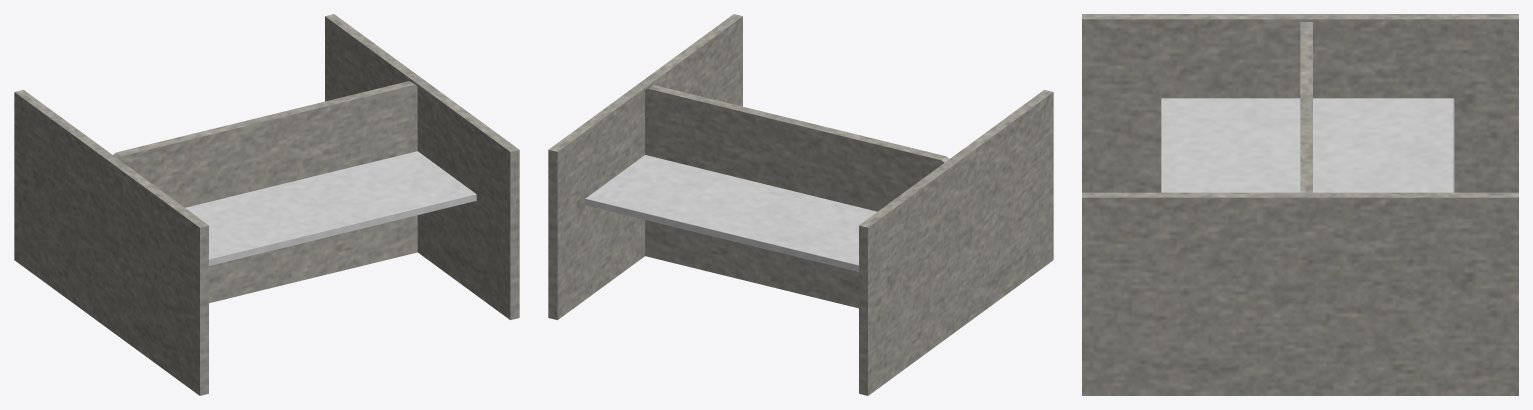
The model's file is divider_full_h_desk.obj.
The picture shows the model from 3 angles, left to right: view 1: azimuth 30°, elevation 25°; view 2: azimuth 150°, elevation 25°; view 3: azimuth 270°, elevation 25°; orthographic projection. The views are drawn at different scales.
Visible parts, largest first — view 1: divider_full_h_desk; view 2: divider_full_h_desk; view 3: divider_full_h_desk.
Part boxes in pixels (left/top/right/bottom): divider_full_h_desk: left=14, top=14, right=519, bottom=395; divider_full_h_desk: left=548, top=14, right=1053, bottom=395; divider_full_h_desk: left=1082, top=14, right=1518, bottom=395.
Size of the model in its own units: 2.99 by 1.5 by 3.
